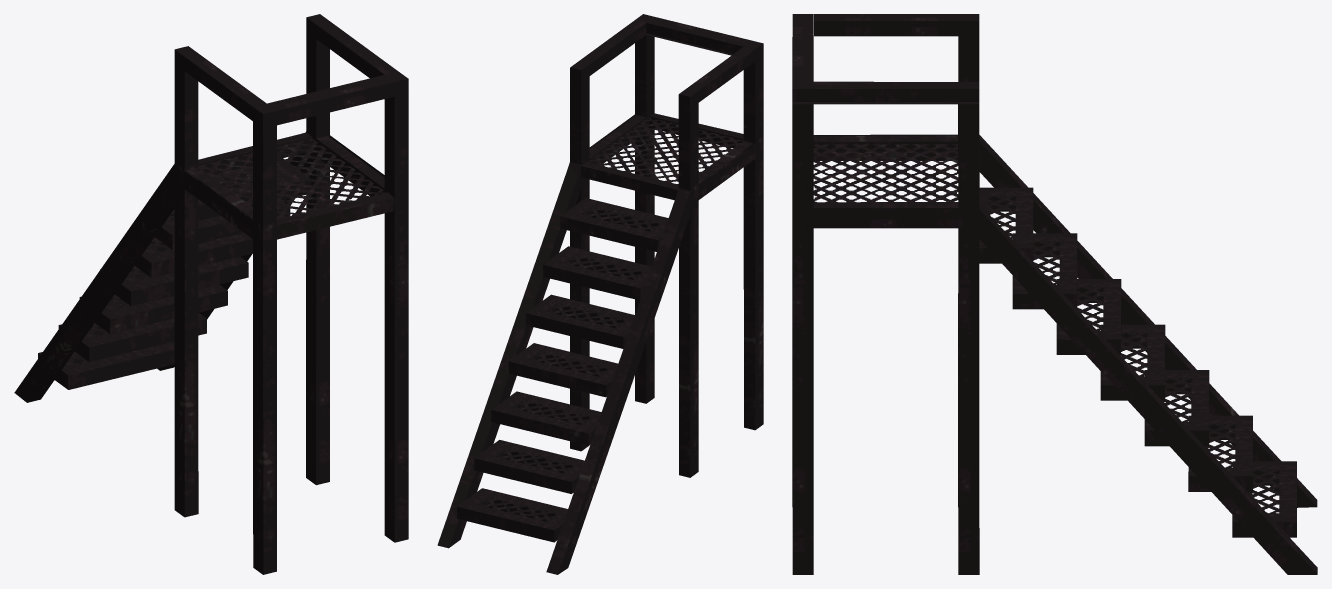
Rendered from SM_EC_Barn_Steps_0.fbx.
3 renders of one model, left to right at view 1: azimuth 30°, elevation 25°; view 2: azimuth 150°, elevation 25°; view 3: azimuth 270°, elevation 25°, orthographic. The views are drawn at different scales.
Parts seen in each view (by area): view 1: SM_EC_Barn_Steps_0; view 2: SM_EC_Barn_Steps_0; view 3: SM_EC_Barn_Steps_0.
Boxes of the visible parts, left/top/right/bottom form: SM_EC_Barn_Steps_0: left=14, top=14, right=408, bottom=574; SM_EC_Barn_Steps_0: left=437, top=14, right=763, bottom=574; SM_EC_Barn_Steps_0: left=792, top=14, right=1317, bottom=574.
Bounding box in the file's own units: 1.05 × 3.11 × 3.18.
